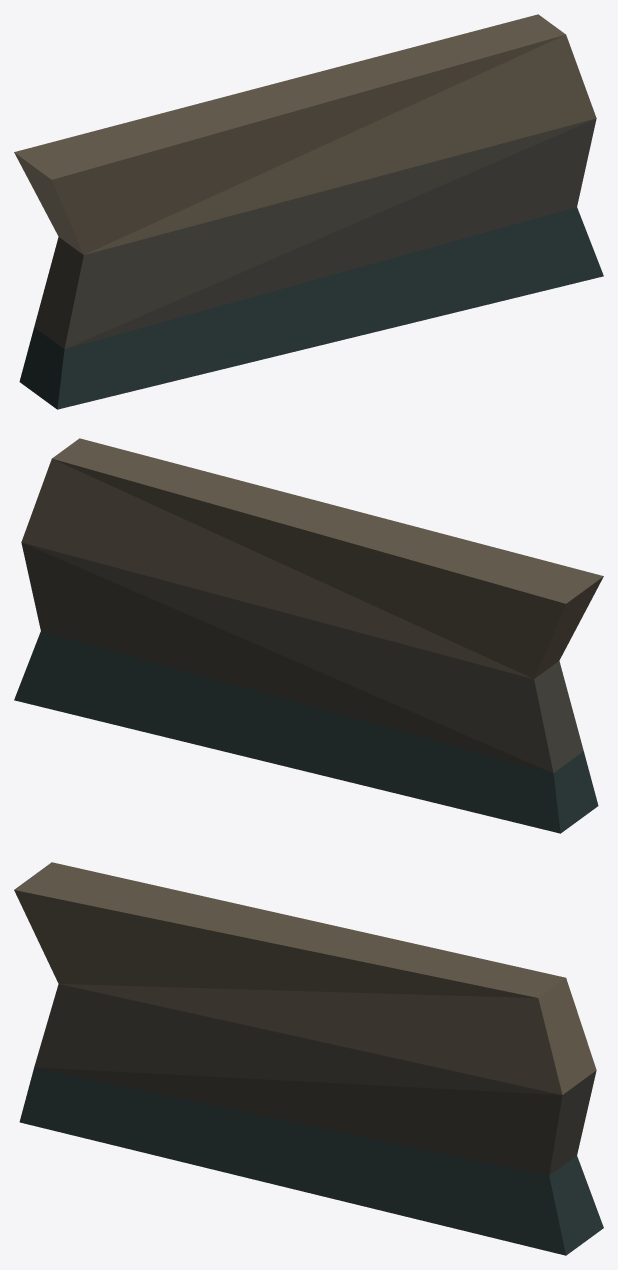
File: estratos_montana.obj
3 renders of one model, top to bottom at view 1: azimuth 30°, elevation 25°; view 2: azimuth 150°, elevation 25°; view 3: azimuth 330°, elevation 25°, orthographic.
Parts seen in each view (by area): view 1: estrato_superior, estrato_medio, estrato_inferior; view 2: estrato_superior, estrato_medio, estrato_inferior; view 3: estrato_superior, estrato_medio, estrato_inferior.
Boxes of the visible parts, x1,y1,x2,y2 form: estrato_superior: [14, 14, 596, 254]; estrato_medio: [34, 118, 596, 349]; estrato_inferior: [19, 207, 603, 409]; estrato_superior: [21, 438, 603, 678]; estrato_medio: [21, 542, 583, 773]; estrato_inferior: [14, 631, 598, 833]; estrato_superior: [14, 862, 596, 1094]; estrato_medio: [34, 984, 596, 1175]; estrato_inferior: [19, 1067, 603, 1255].
Size of the model in its own units: 5.05 by 2.15 by 0.6.
